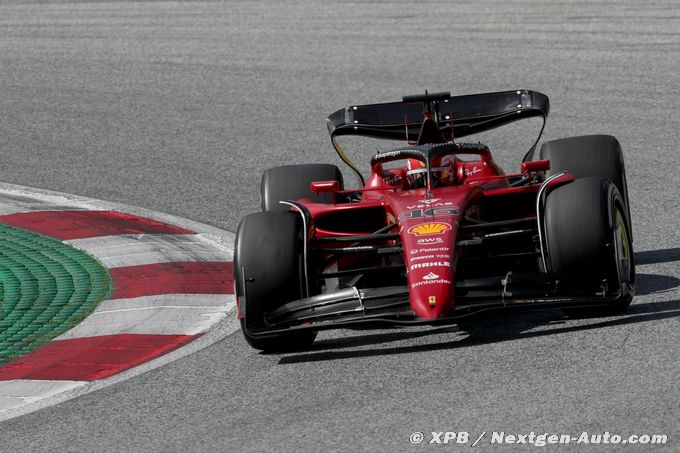Formule 1: (236, 89, 633, 343)
